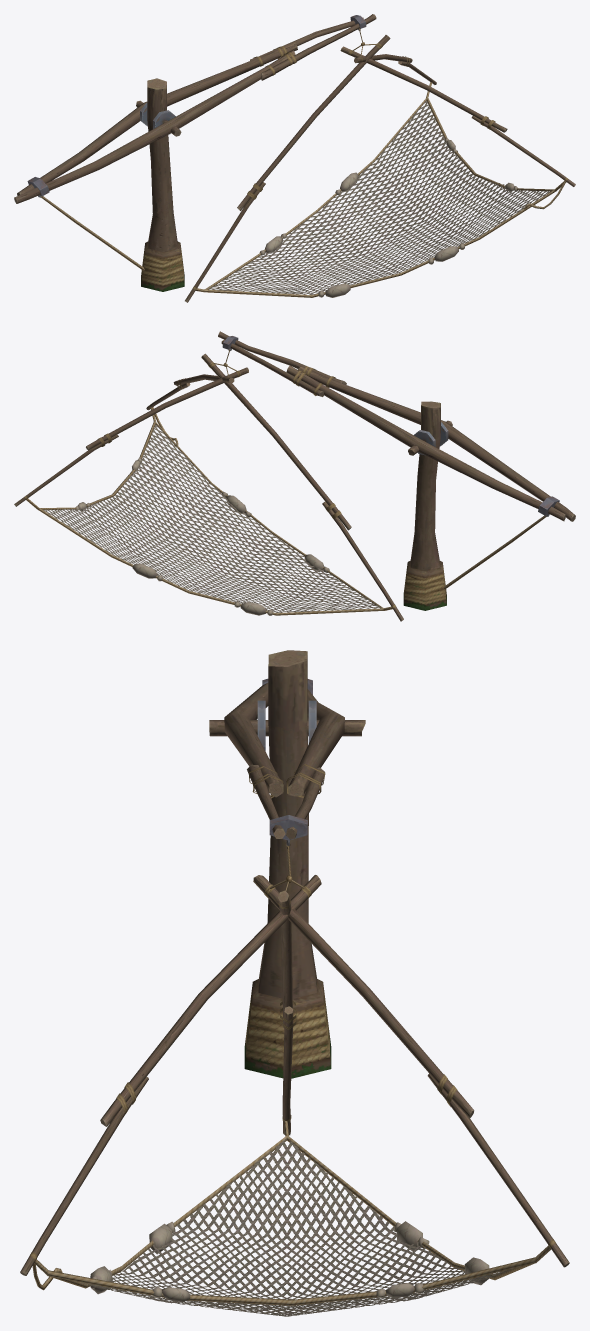
Rendered from Homeworld_Exterior_Xm_Thing_Prop_FishingTool_02_Lod0.fbx.
3 views of the same model, one above another, from view 1: azimuth 30°, elevation 25°; view 2: azimuth 150°, elevation 25°; view 3: azimuth 270°, elevation 25° (orthographic). The views are drawn at different scales.
Parts seen in each view (by area): view 1: Homeworld_Exterior_Xm_Thing_Prop_FishingTool_02_Lod0; view 2: Homeworld_Exterior_Xm_Thing_Prop_FishingTool_02_Lod0; view 3: Homeworld_Exterior_Xm_Thing_Prop_FishingTool_02_Lod0.
Boxes of the visible parts, left/top/right/bottom form: Homeworld_Exterior_Xm_Thing_Prop_FishingTool_02_Lod0: left=14, top=14, right=575, bottom=302; Homeworld_Exterior_Xm_Thing_Prop_FishingTool_02_Lod0: left=14, top=331, right=575, bottom=621; Homeworld_Exterior_Xm_Thing_Prop_FishingTool_02_Lod0: left=20, top=650, right=569, bottom=1316.
Size of the model in its own units: 7.48 by 3.58 by 3.62.
